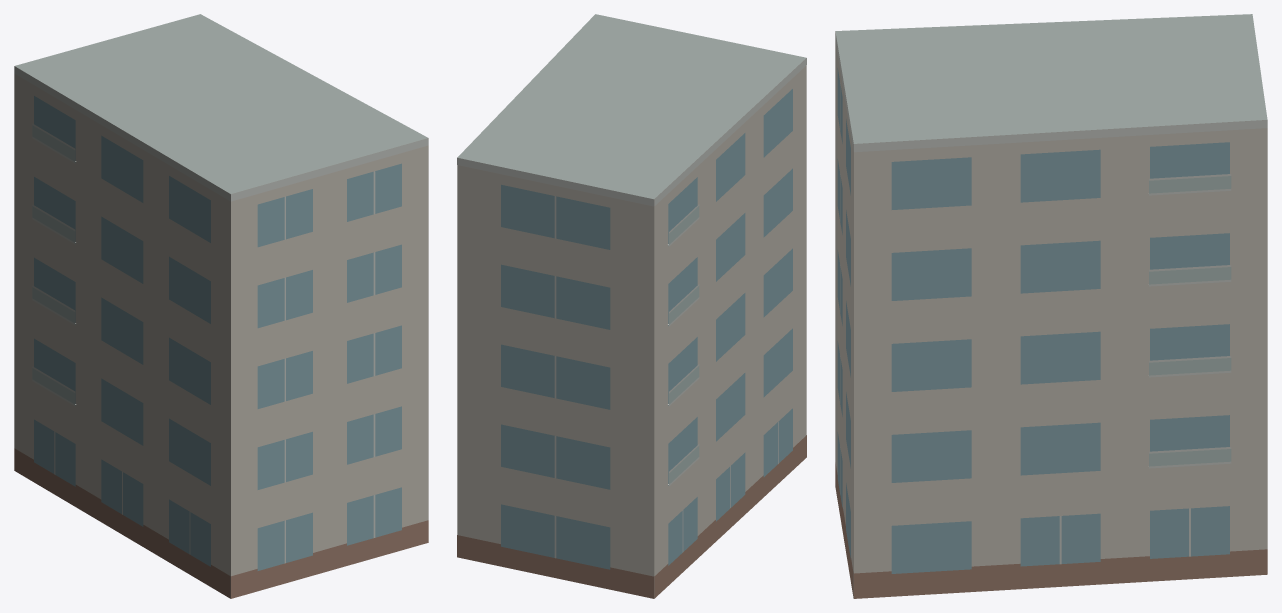
The model's file is survey-upis-32879789.glb.
3 renders of one model, left to right at view 1: azimuth 30°, elevation 25°; view 2: azimuth 150°, elevation 25°; view 3: azimuth 270°, elevation 25°, orthographic. The views are drawn at different scales.
Visible parts, largest first — view 1: survey-upis-32879789.tmp; view 2: survey-upis-32879789.tmp; view 3: survey-upis-32879789.tmp.
Part boxes in pixels (x1,y1,x2,y2): survey-upis-32879789.tmp: (14,14,428,598); survey-upis-32879789.tmp: (457,14,806,598); survey-upis-32879789.tmp: (835,14,1267,598).
Bounding box in the file's own units: 8.16 × 13.3 × 11.46.
